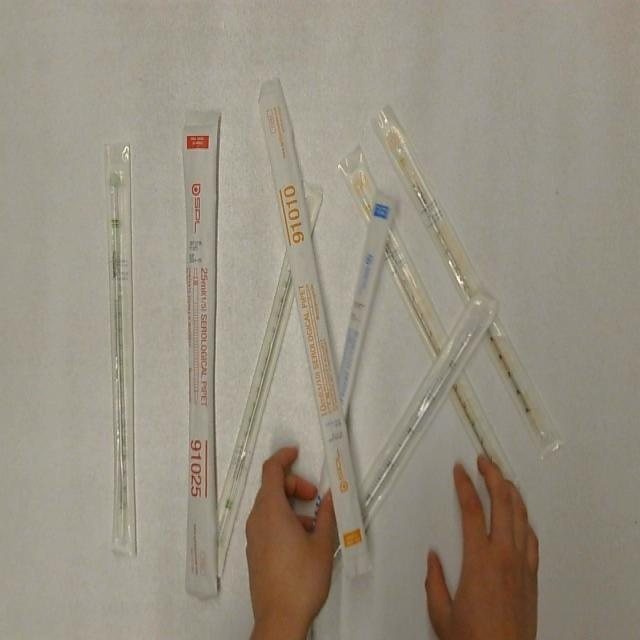Serelogical Pipet 1 mL: (376, 101, 566, 458), (335, 146, 522, 497)
Serelogical Pipet 10 mL: (256, 73, 376, 583)
Serelogical Pipet 2 mL: (209, 185, 324, 578), (106, 137, 136, 559)
Serelogical Pipet 25 mL: (178, 105, 225, 600)
Serelogical Pipet 5 mL: (332, 194, 399, 422)
